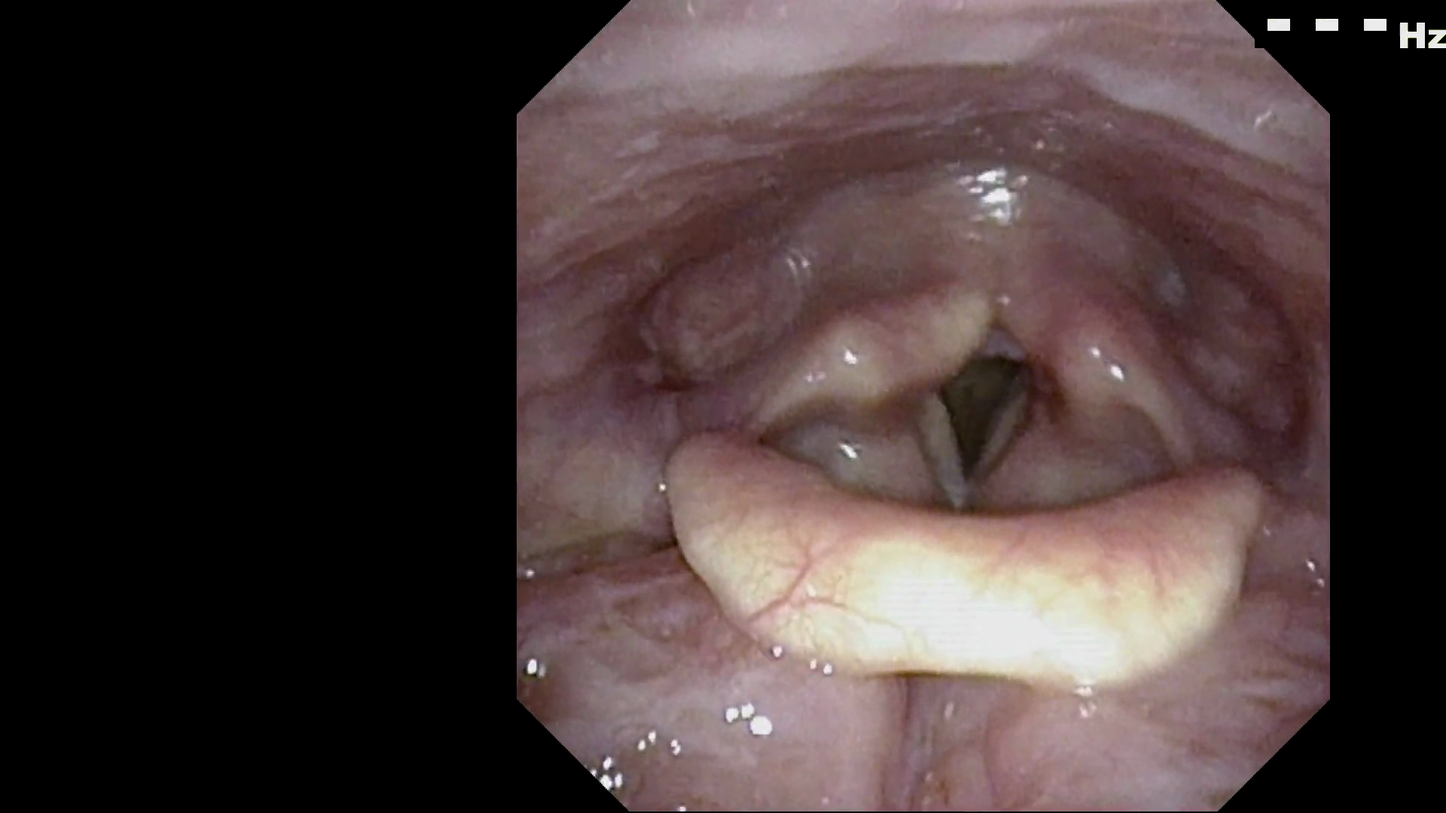epiglottis: (663, 421, 1275, 710)
trachea: (896, 335, 1062, 508)
